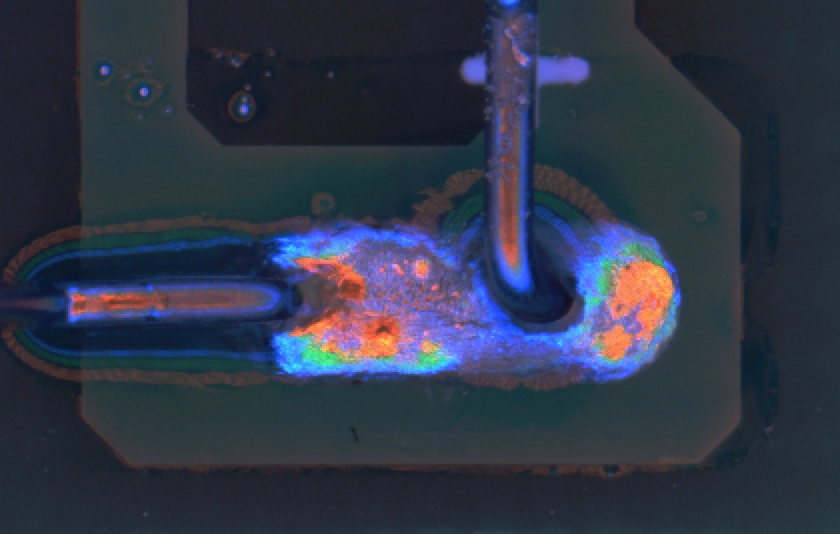offset: (218, 212, 687, 392)
spring: (1, 274, 304, 329)
spring_offset: (476, 2, 578, 329)
